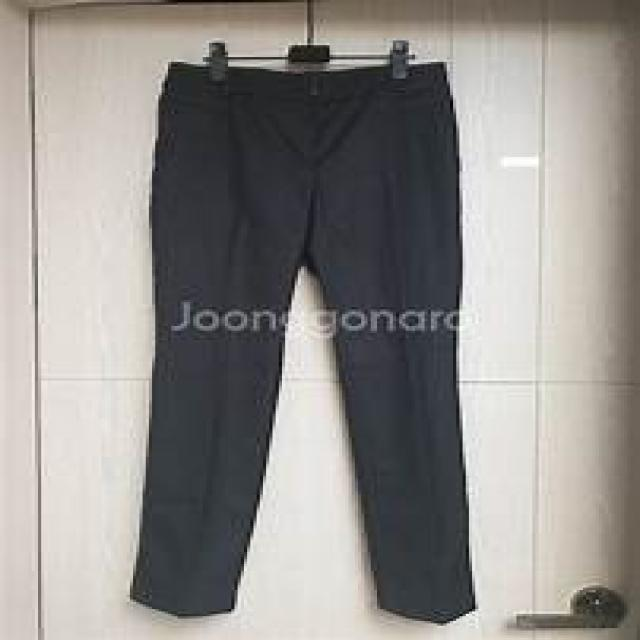long-pants: (130, 58, 482, 628)
